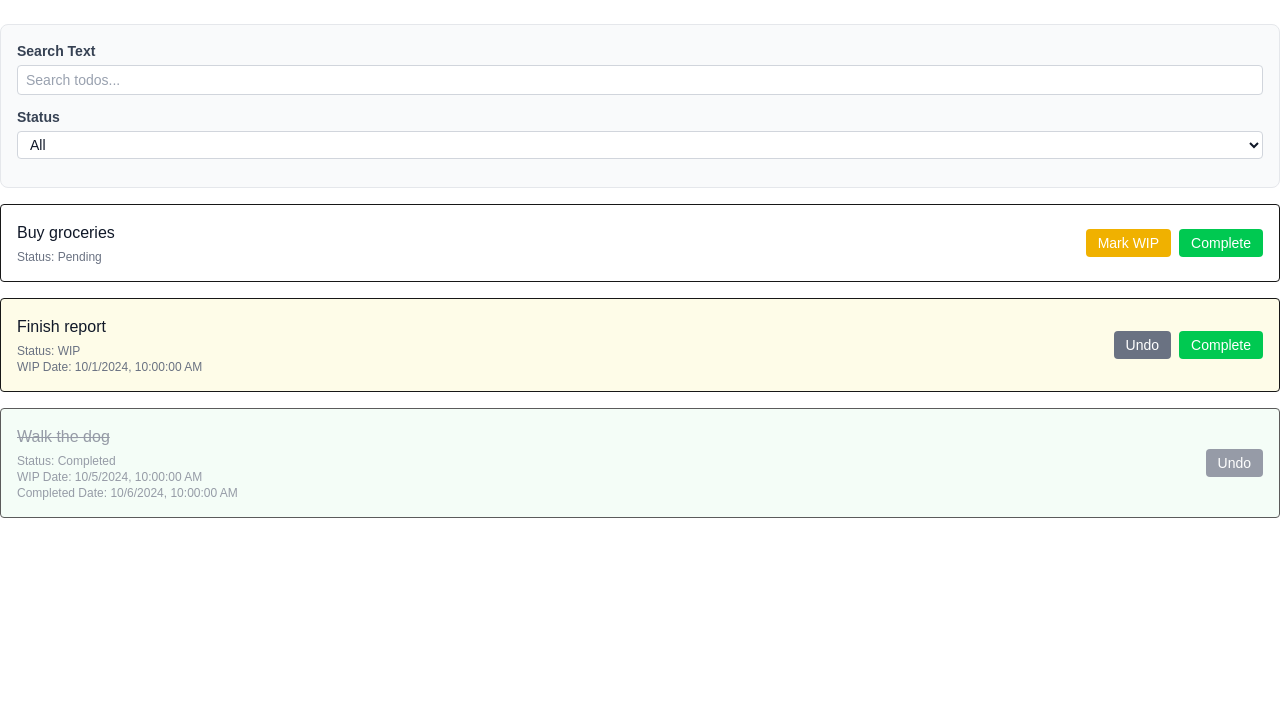
TodoList filtering › filters by status
The image size is (1280, 720).
Select "Pending" in the dropdown with test id "filter-status": (640, 145) x1=17 y1=131 x2=1263 y2=159
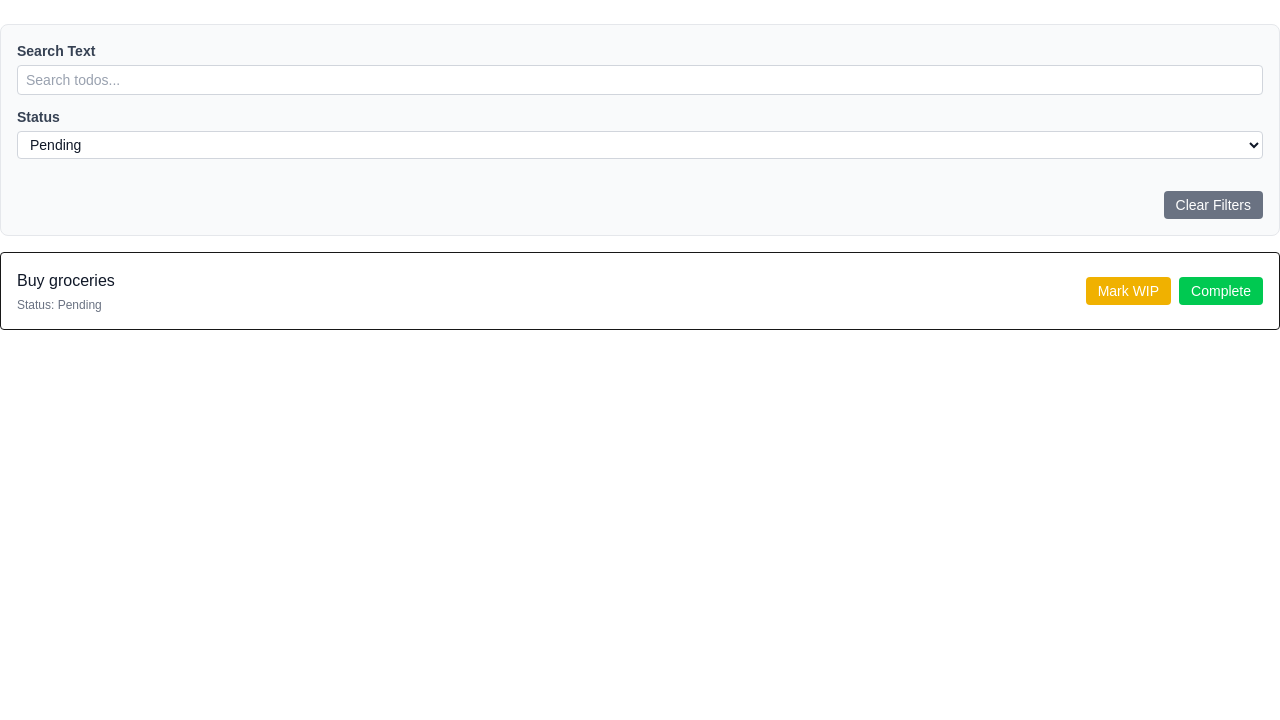
Check: the element with test id "todo-item-1" is shown, box x1=0 y1=252 x2=1279 y2=330
Select "WIP" in the dropdown with test id "filter-status": (640, 145) x1=17 y1=131 x2=1263 y2=159
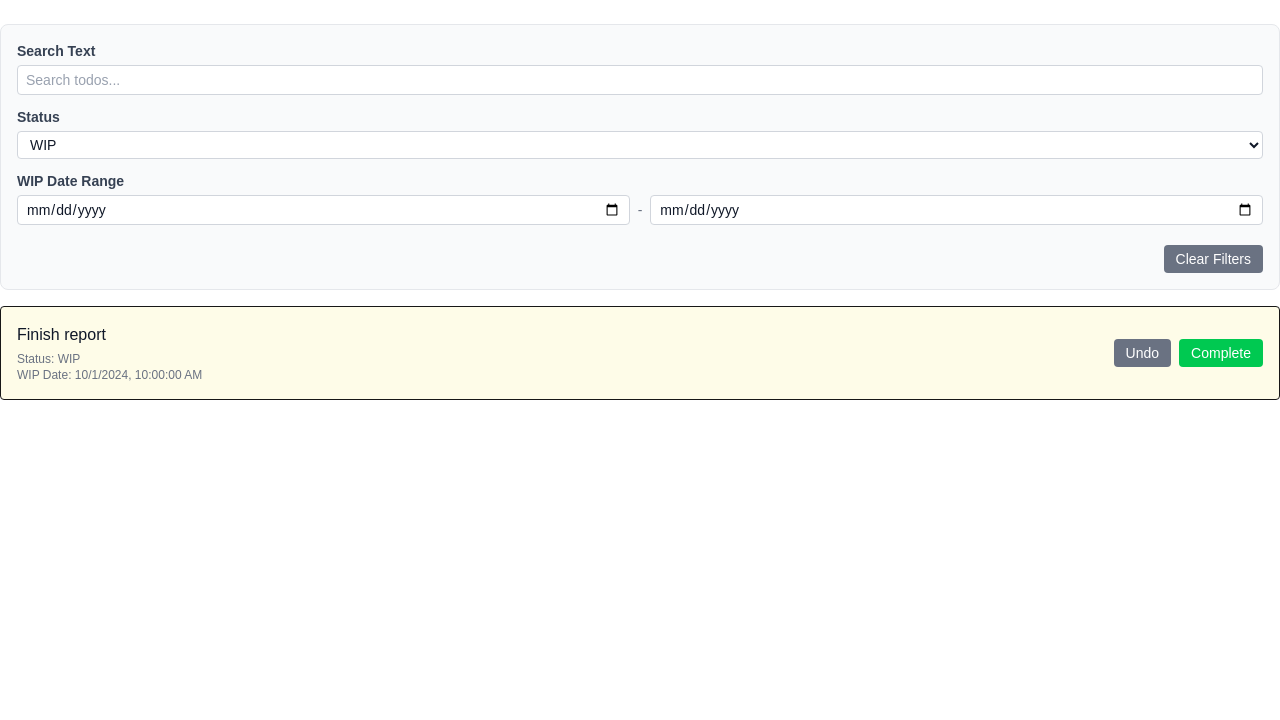
Check: the element with test id "todo-item-2" is shown, box x1=0 y1=306 x2=1279 y2=400
Select "Completed" in the dropdown with test id "filter-status": (640, 145) x1=17 y1=131 x2=1263 y2=159
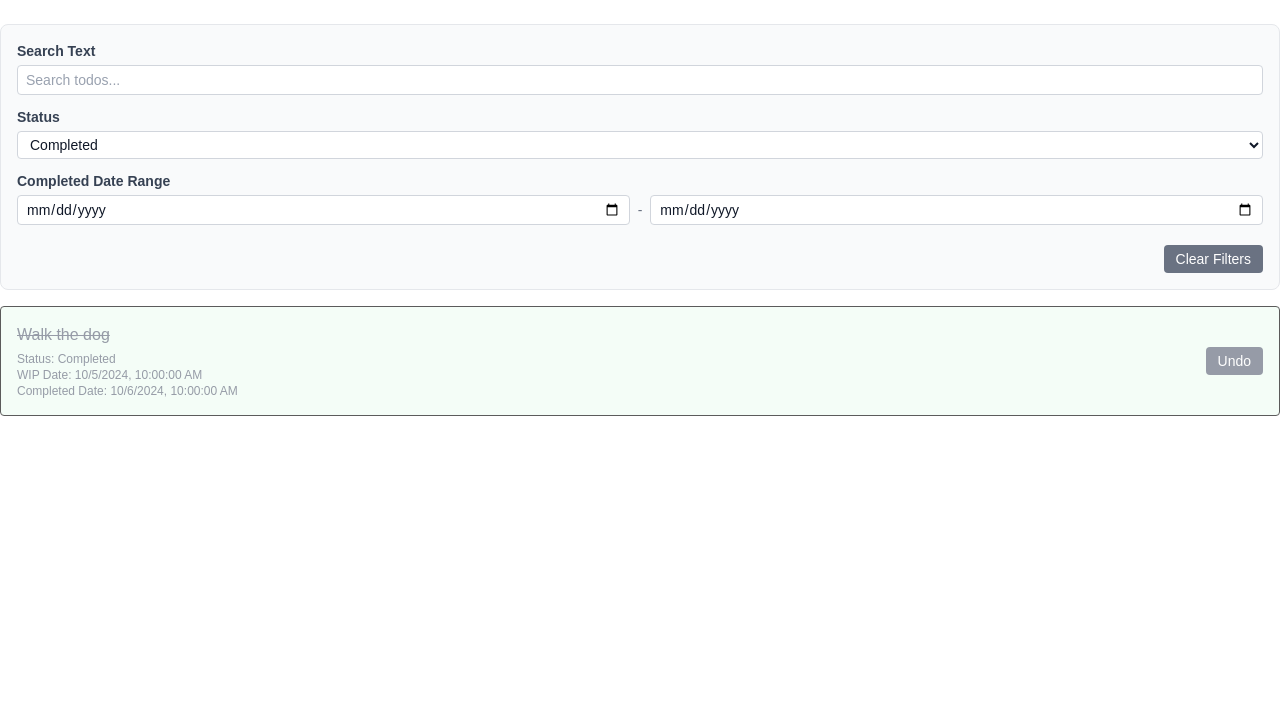
Check: the element with test id "todo-item-3" is shown, box x1=0 y1=306 x2=1279 y2=416
